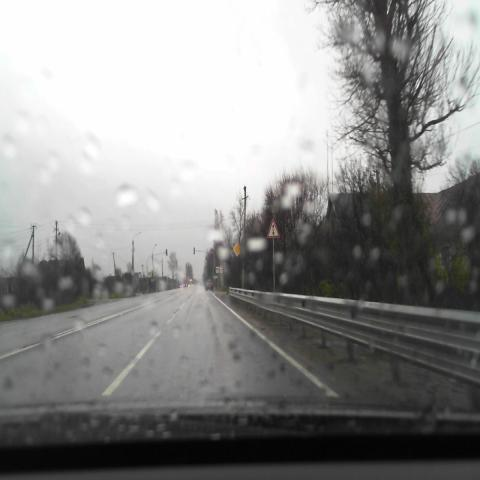1_8: (267, 218, 279, 237)
